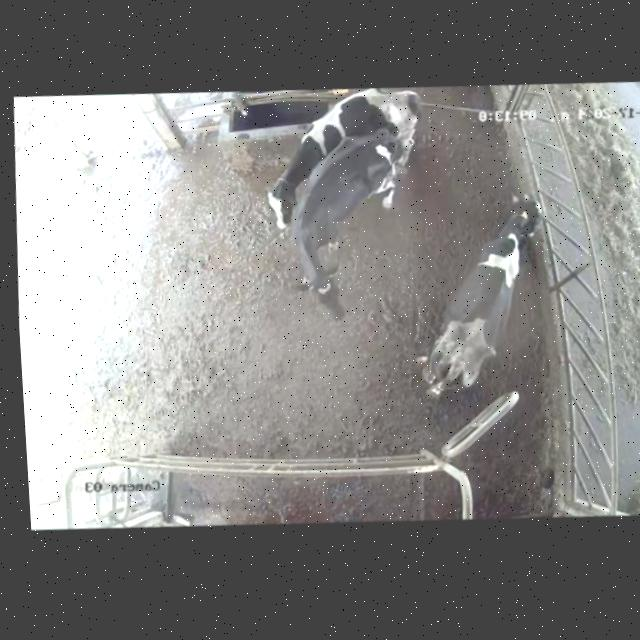stand: (409, 185, 559, 414), (279, 127, 416, 334), (258, 80, 426, 240)
